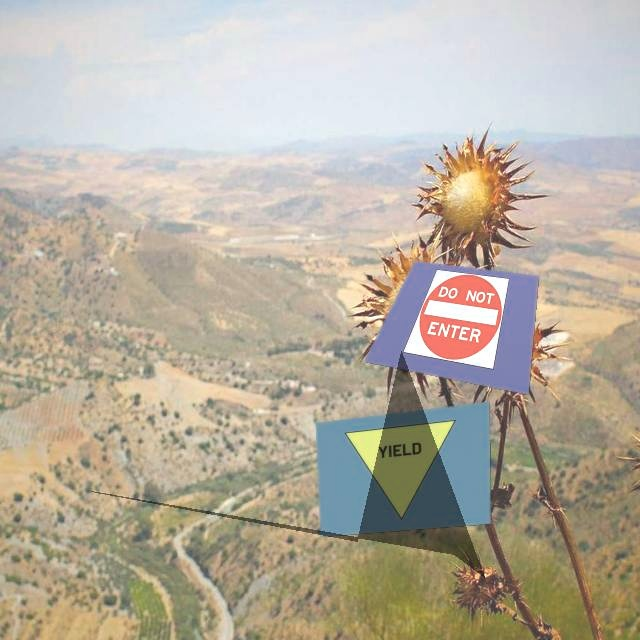DO_NOT_ENTER: (402, 267, 509, 370)
YIELD: (344, 420, 460, 527)
